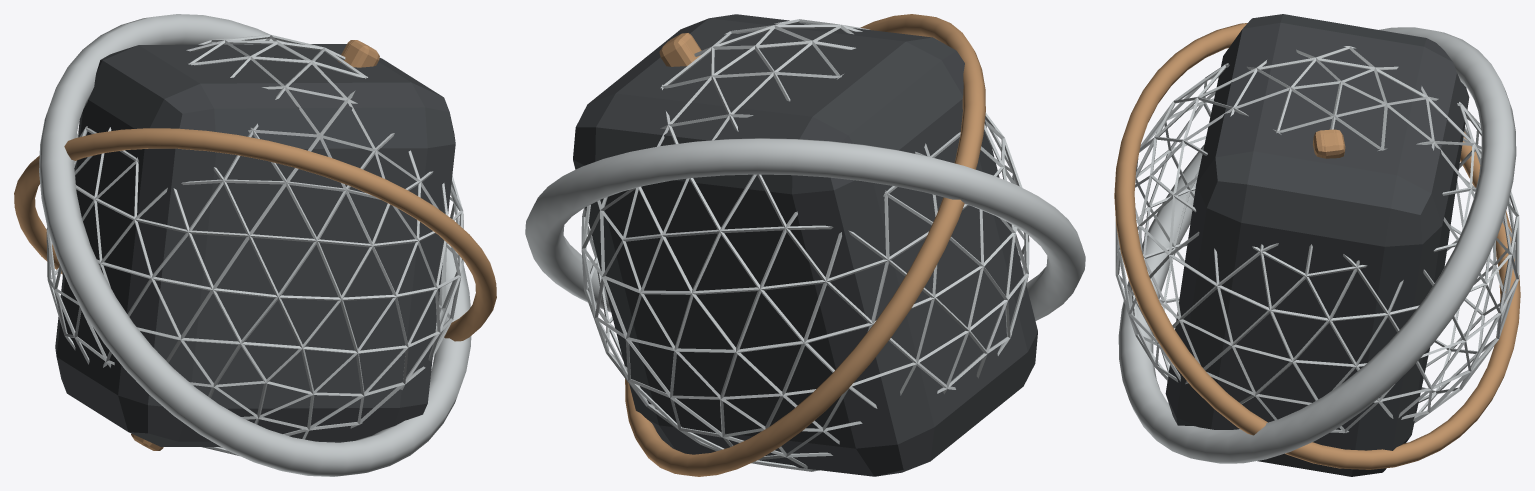
Rendered from shield-orb.glb.
3 renders of one model, left to right at view 1: azimuth 30°, elevation 25°; view 2: azimuth 150°, elevation 25°; view 3: azimuth 270°, elevation 25°, orthographic. The views are drawn at different scales.
Visible parts, largest first — view 1: Shield_Core, Shield_Ring_A, Shield_Lattice, Shield_Ring_B, Shield_Rib_0; view 2: Shield_Core, Shield_Lattice, Shield_Ring_A, Shield_Ring_B, Shield_Rib_3; view 3: Shield_Core, Shield_Ring_A, Shield_Lattice, Shield_Ring_B, Shield_Rib_1.
Part boxes in pixels (left/top/right/bottom): Shield_Core: left=55, top=44, right=455, bottom=447; Shield_Ring_A: left=39, top=14, right=471, bottom=476; Shield_Lattice: left=46, top=34, right=464, bottom=455; Shield_Ring_B: left=14, top=128, right=496, bottom=341; Shield_Rib_0: left=131, top=40, right=379, bottom=440; Shield_Core: left=573, top=14, right=1037, bottom=476; Shield_Lattice: left=581, top=19, right=1029, bottom=471; Shield_Ring_A: left=525, top=138, right=1085, bottom=320; Shield_Ring_B: left=625, top=14, right=985, bottom=476; Shield_Rib_3: left=659, top=39, right=694, bottom=66; Shield_Core: left=1165, top=14, right=1469, bottom=476; Shield_Ring_A: left=1118, top=27, right=1516, bottom=463; Shield_Lattice: left=1115, top=46, right=1519, bottom=433; Shield_Ring_B: left=1114, top=23, right=1520, bottom=469; Shield_Rib_1: left=1321, top=129, right=1343, bottom=158.
Bounding box in the file's own units: 2.78 × 2.39 × 2.34.
